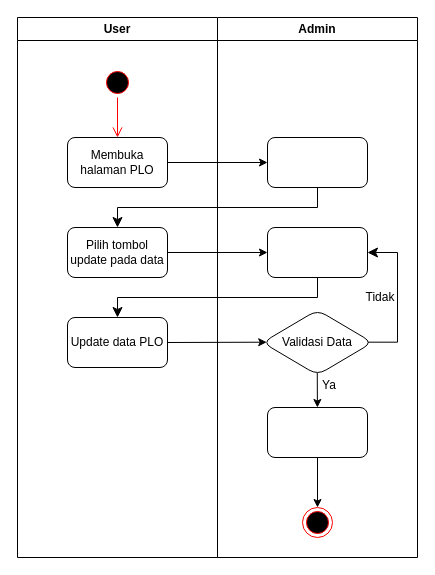
Some shapes in this 435 by 575 pixel diagram are drawn without their labels. The shapes that lost their labels are listed below. From the top down, each one's centre as x and y in pixels, then its label:
[317,162]: Menampilkan halaman PLO
[317,252]: Menampilkan halaman update data
[317,432]: Perubahan Data Tersimpan
